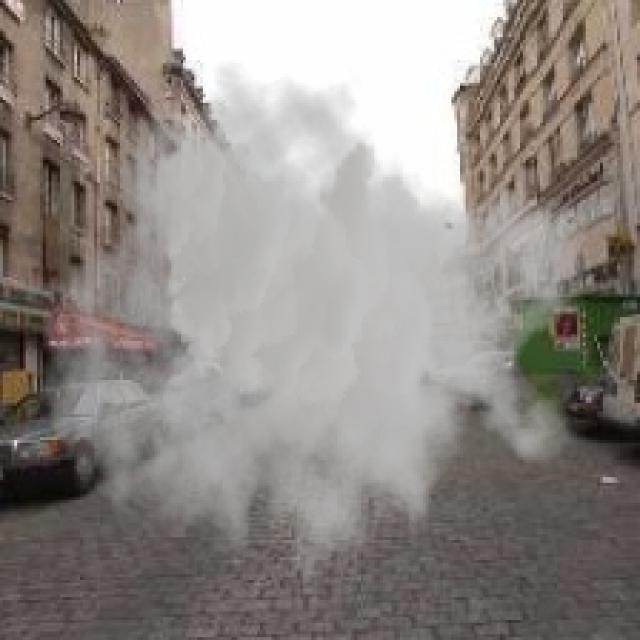Smoke: (39, 60, 594, 617)
